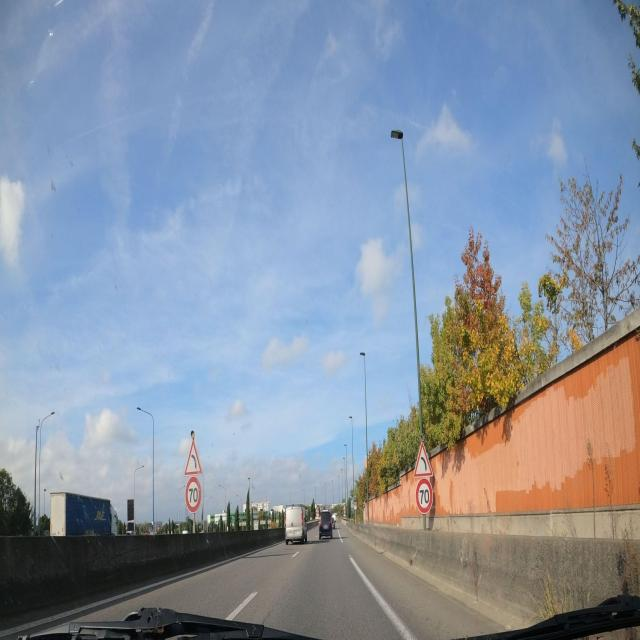car: (284, 502, 308, 544), (318, 507, 333, 540)
